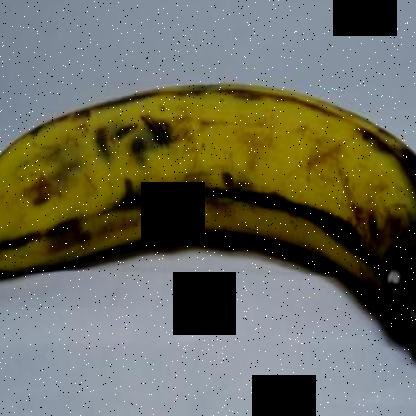overripe: (1, 59, 415, 356)
rotten: (302, 124, 415, 362)
